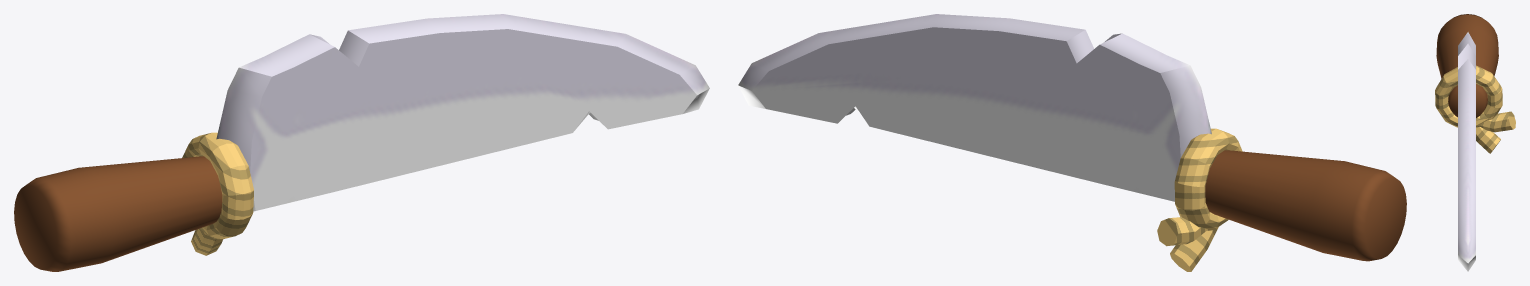
File: Knife.fbx
3 renders of one model, left to right at view 1: azimuth 30°, elevation 25°; view 2: azimuth 150°, elevation 25°; view 3: azimuth 270°, elevation 25°, orthographic. The views are drawn at different scales.
Parts seen in each view (by area): view 1: Knife; view 2: Knife; view 3: Knife.
Boxes of the visible parts, x1,y1,x2,y2 form: Knife: (14,14,709,271); Knife: (738,14,1406,271); Knife: (1435,14,1515,271).
Size of the model in its own units: 111 by 33.59 by 18.13.
1 material, 1 textured.
